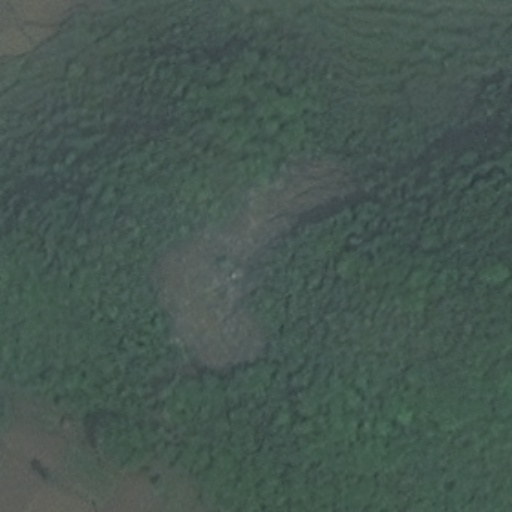landslide: (155, 152, 356, 373)
